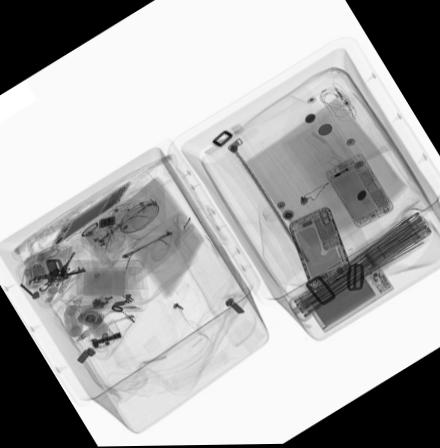Powerbank: (298, 259, 393, 334)
